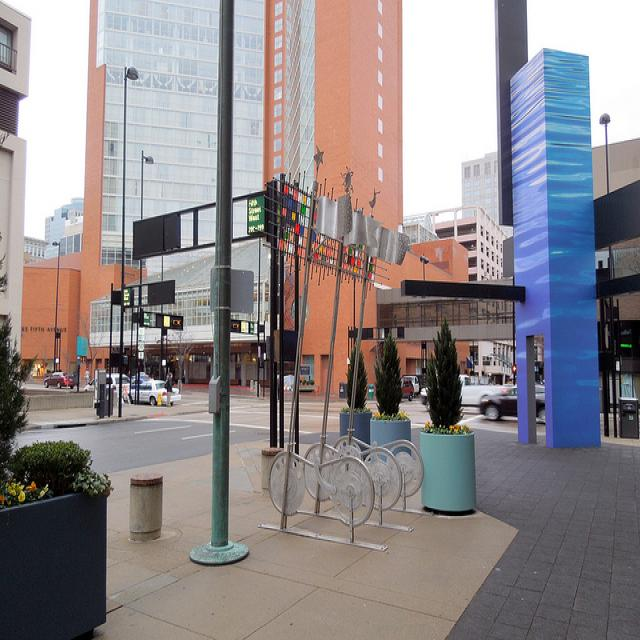Vehicle: (421, 376, 506, 412), (479, 383, 545, 423), (131, 380, 181, 406), (106, 372, 130, 402), (44, 372, 76, 389), (402, 379, 414, 401), (131, 376, 151, 386)
